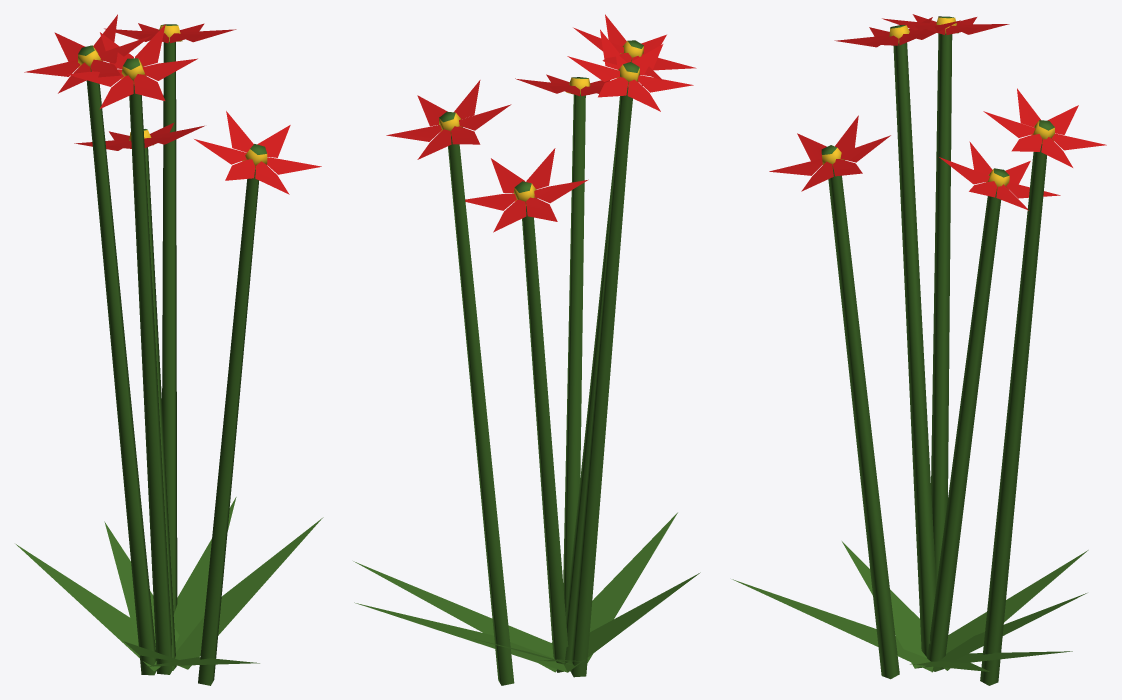
Rendered from n-flowerRed.glb.
The picture shows the model from 3 angles, left to right: view 1: azimuth 30°, elevation 25°; view 2: azimuth 150°, elevation 25°; view 3: azimuth 270°, elevation 25°; orthographic projection. The views are drawn at different scales.
Visible parts, largest first — view 1: flower; view 2: flower; view 3: flower.
Boxes of the visible parts, left/top/right/bottom form: flower: left=16, top=14, right=323, bottom=685; flower: left=353, top=14, right=700, bottom=685; flower: left=732, top=14, right=1106, bottom=685.
Size of the model in its own units: 0.4494 by 0.9111 by 0.4926.
